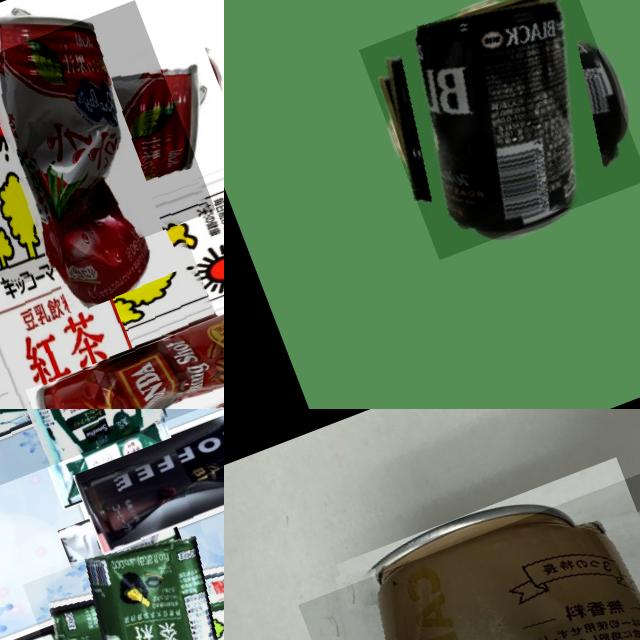Aluminium Foil: (0, 101, 224, 409), (22, 506, 224, 640), (0, 310, 224, 409), (0, 409, 212, 484)
Can: (358, 0, 640, 259), (0, 0, 215, 290), (298, 460, 640, 640), (25, 284, 224, 409), (72, 409, 224, 554)
